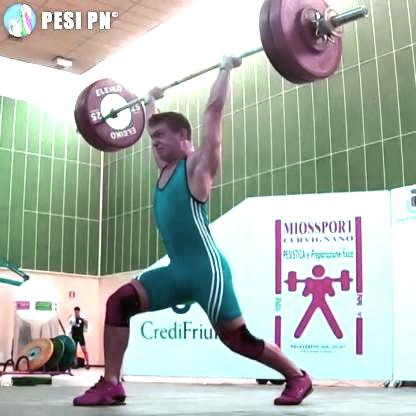barbell: (281, 1, 342, 78), (85, 78, 147, 150)
